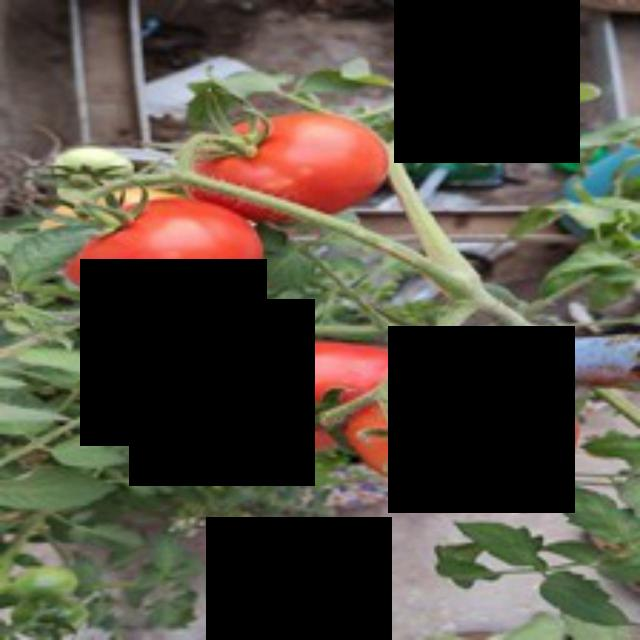tomato: (356, 362, 586, 498), (56, 193, 273, 308), (200, 336, 410, 449), (198, 110, 406, 213)
